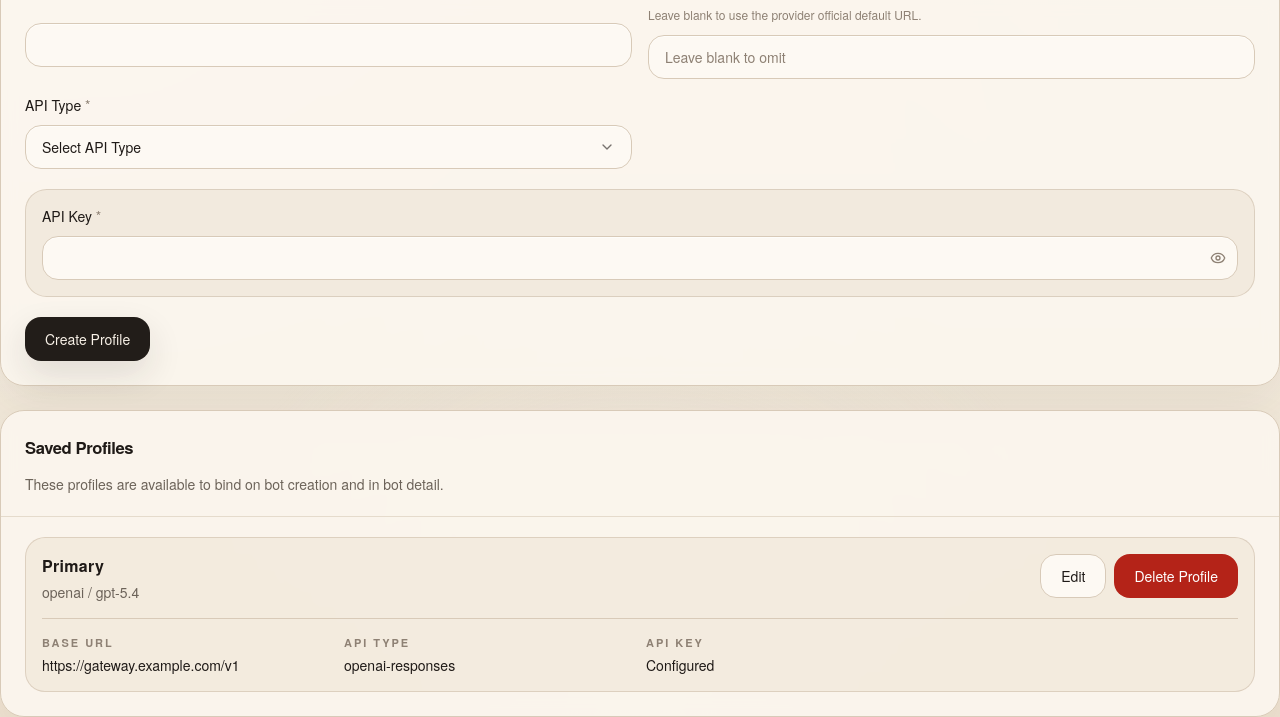
Test case: deletes an unused profile from the list
This screenshot has width=1280, height=717.
(page scrolled)
Click the button "Delete Profile" at (1176, 576), box [1114, 554, 1238, 598]
(page scrolled)
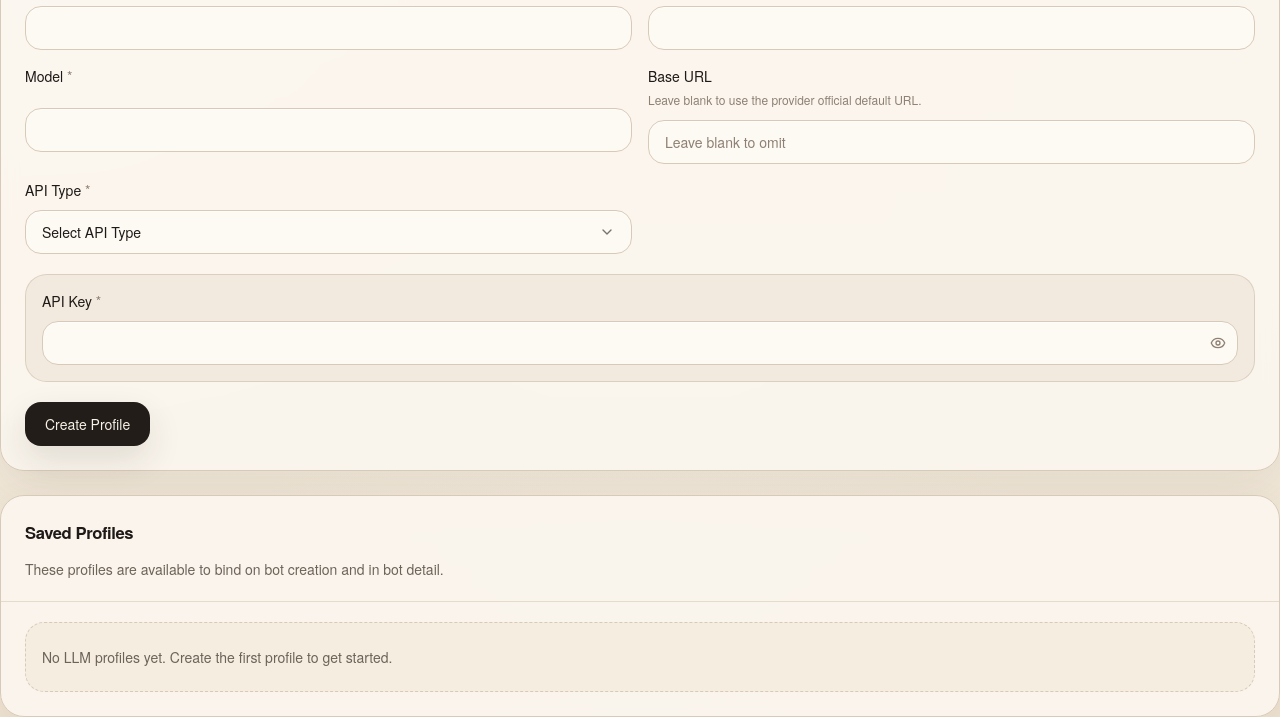
Result: the text "Primary" is gone
